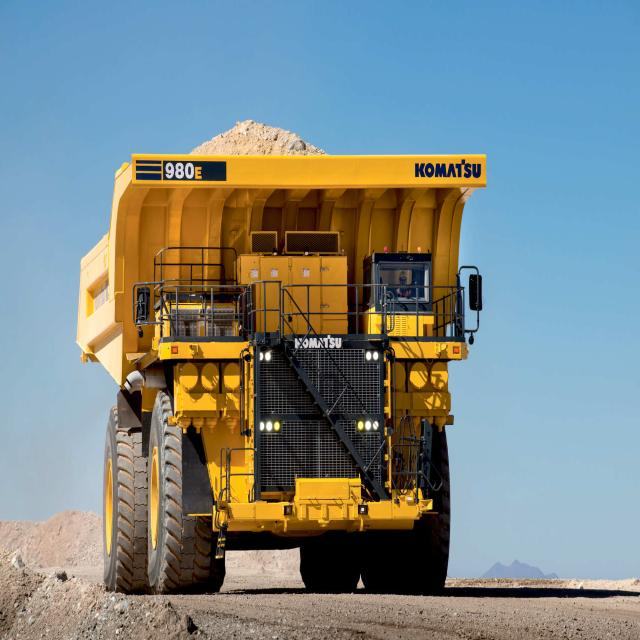dump_truck: (74, 105, 476, 601)
